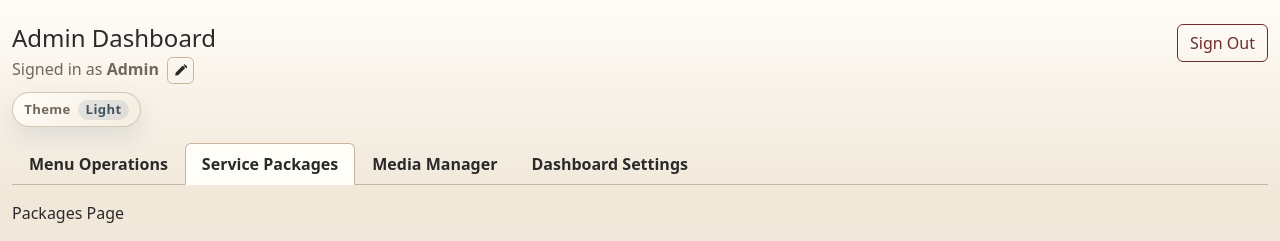
Scenario: AdminLayout › renders routed admin tabs inside the shared dashboard shell
Expected: the text "Packages Page" is shown, [12,202,124,224]
Expected: the tab "Service Packages" is shown, [185,143,355,185]
What coordinates should you click on to do the following:
click the tab "Media Manager"
I would click on:
 (435, 164)
Its box is [372,153,498,175].
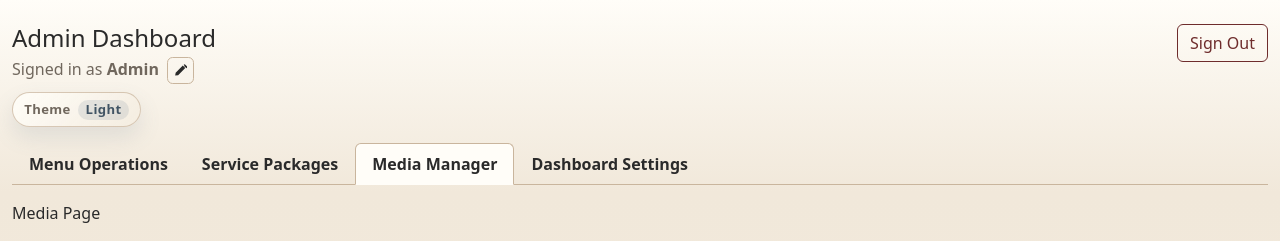
Now the text "Media Page" is shown, box [12,202,100,224]
